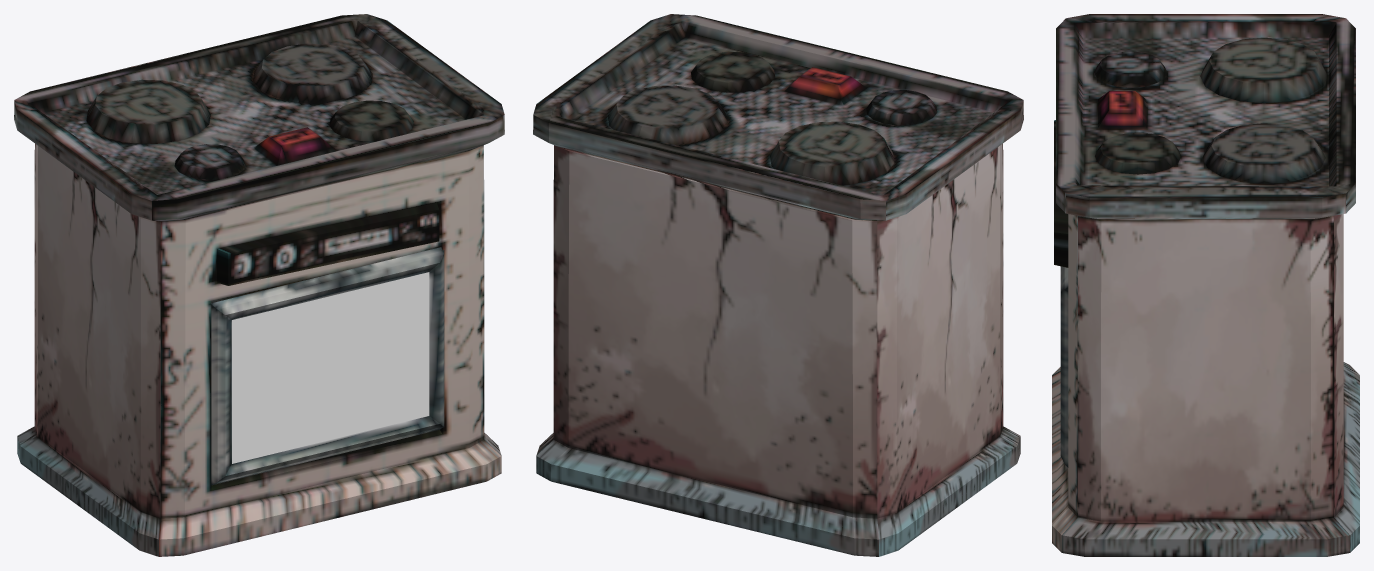
The model's file is Stove.fbx.
The picture shows the model from 3 angles, left to right: view 1: azimuth 30°, elevation 25°; view 2: azimuth 150°, elevation 25°; view 3: azimuth 270°, elevation 25°; orthographic projection.
Parts seen in each view (by area): view 1: Stove; view 2: Stove; view 3: Stove.
Boxes of the visible parts, x1=… form: Stove: x1=14, y1=14, x2=504, y2=556; Stove: x1=533, y1=14, x2=1023, y2=556; Stove: x1=1052, y1=14, x2=1359, y2=556.
Bounding box in the file's own units: 99.8 × 92.81 × 70.64.
